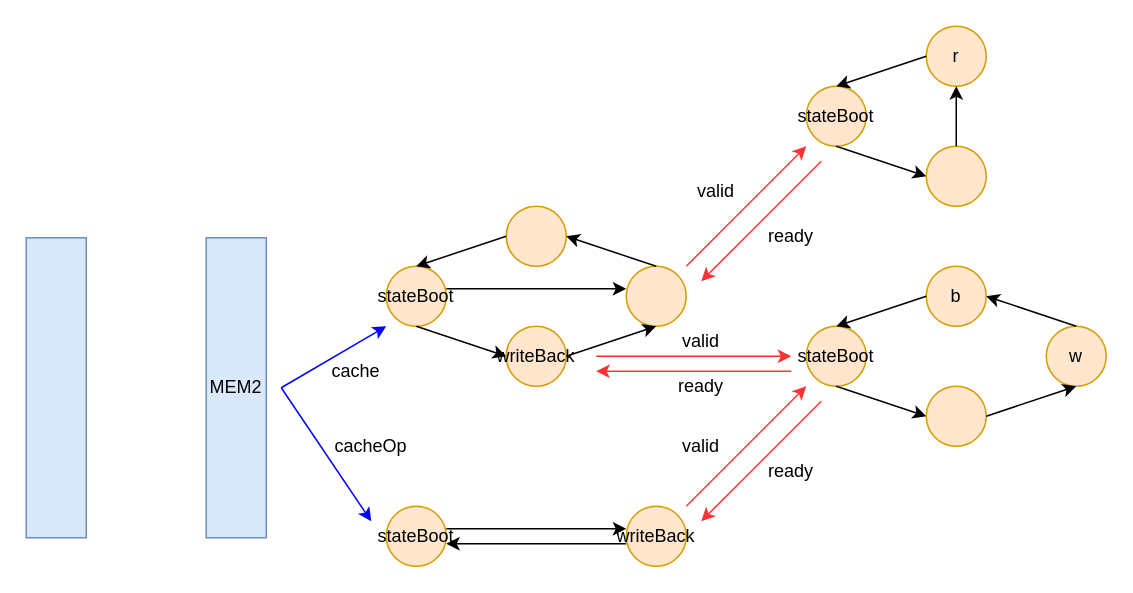
The diagram is 1133 pixels wide and 593 high, and some of its shapes have lost their labels. Each missing label, with the centre of its shape:
ar: the point at 955,175
aw: the point at 955,415
floodfill: the point at 535,235
MEM1: the point at 55,387
readNew: the point at 655,295
